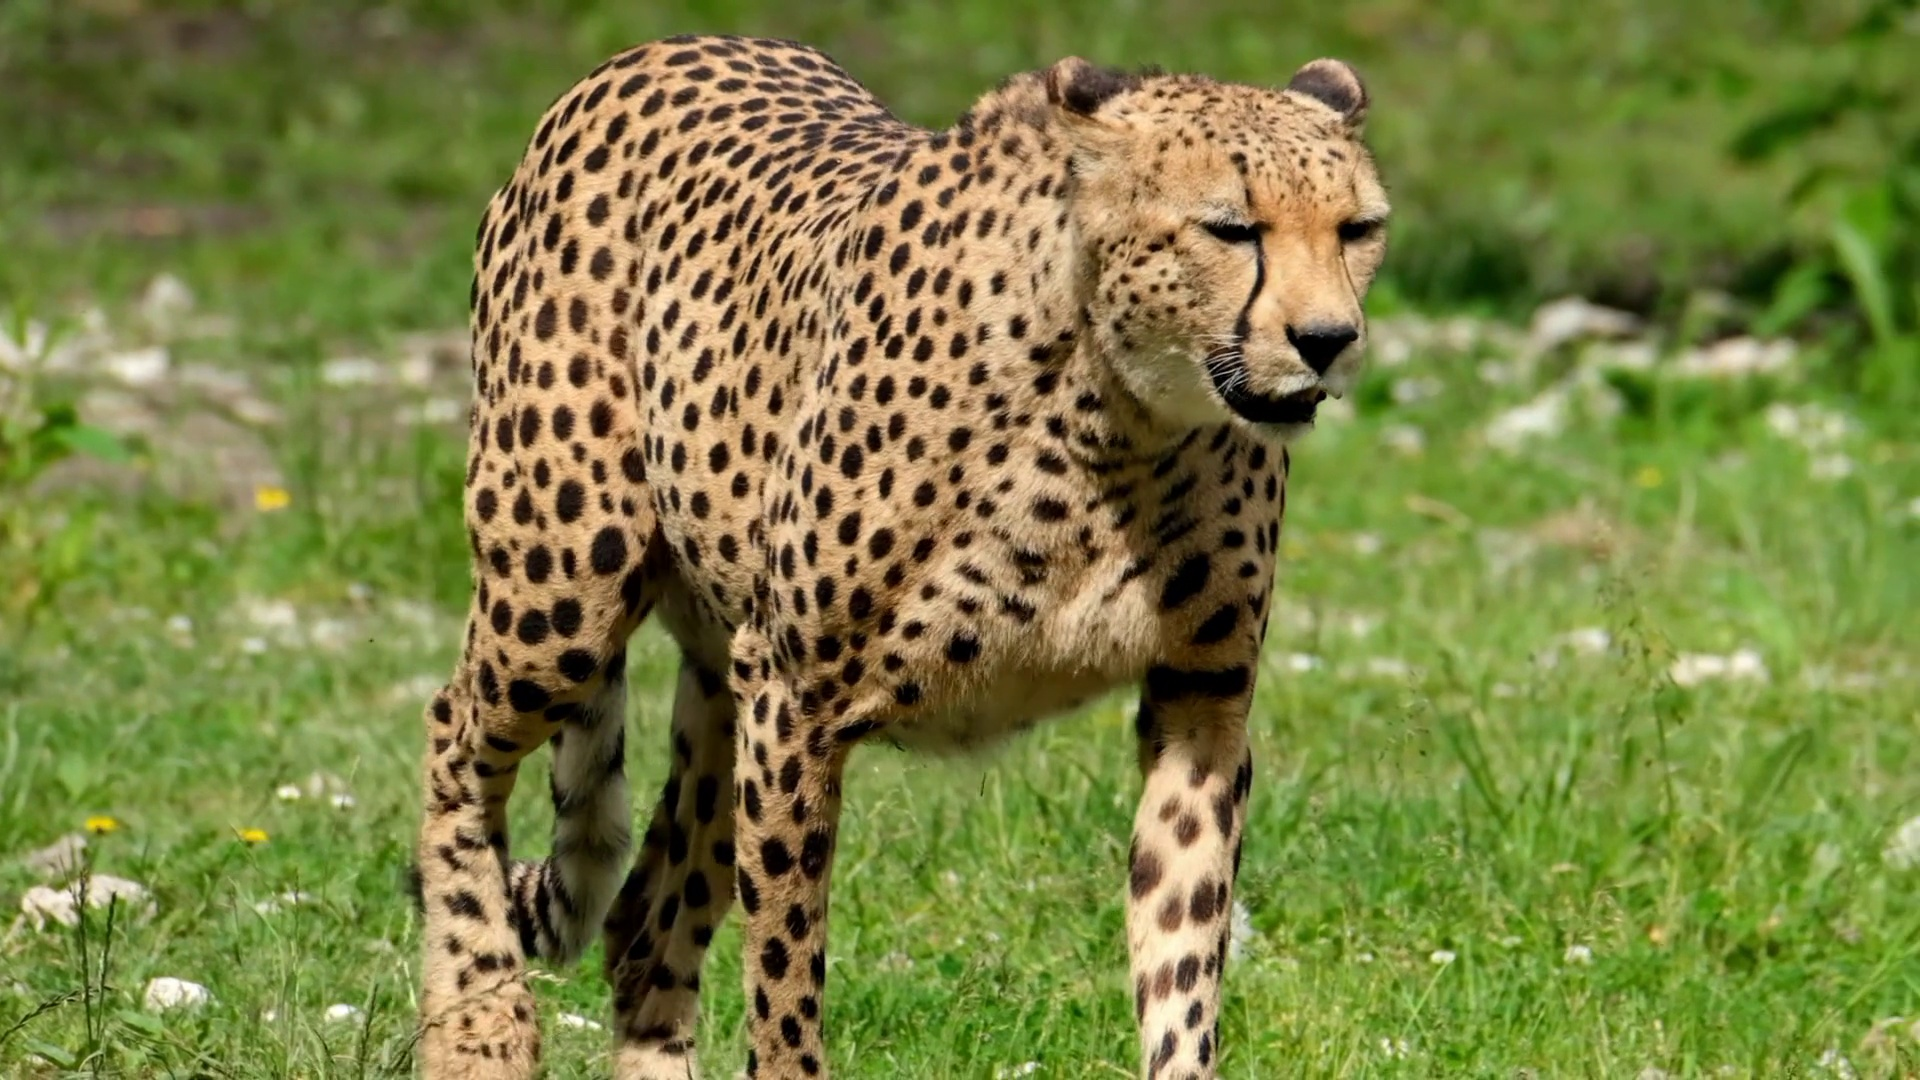Cheetah: (407, 26, 1398, 1080)
